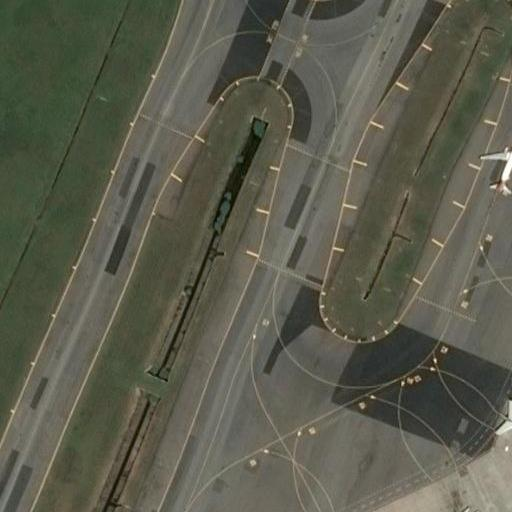Aircraft: (479, 127, 512, 196), (496, 386, 512, 480), (442, 507, 496, 512)
